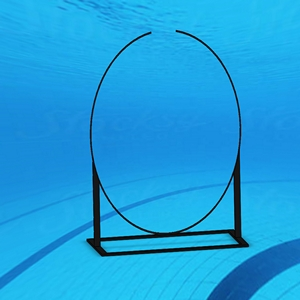circle: (85, 27, 251, 259)
